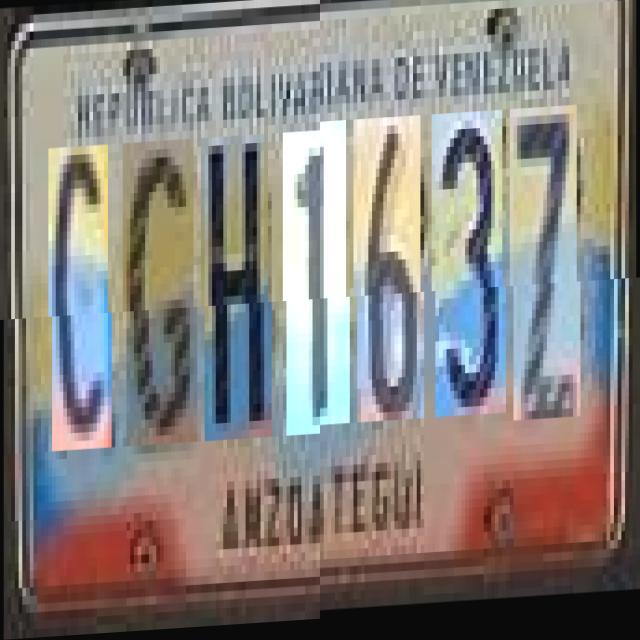1: (286, 133, 350, 440)
3: (436, 125, 506, 432)
6: (357, 129, 424, 436)
C: (52, 146, 111, 452)
G: (127, 141, 197, 448)
H: (204, 137, 272, 444)
Z: (514, 121, 580, 436)
